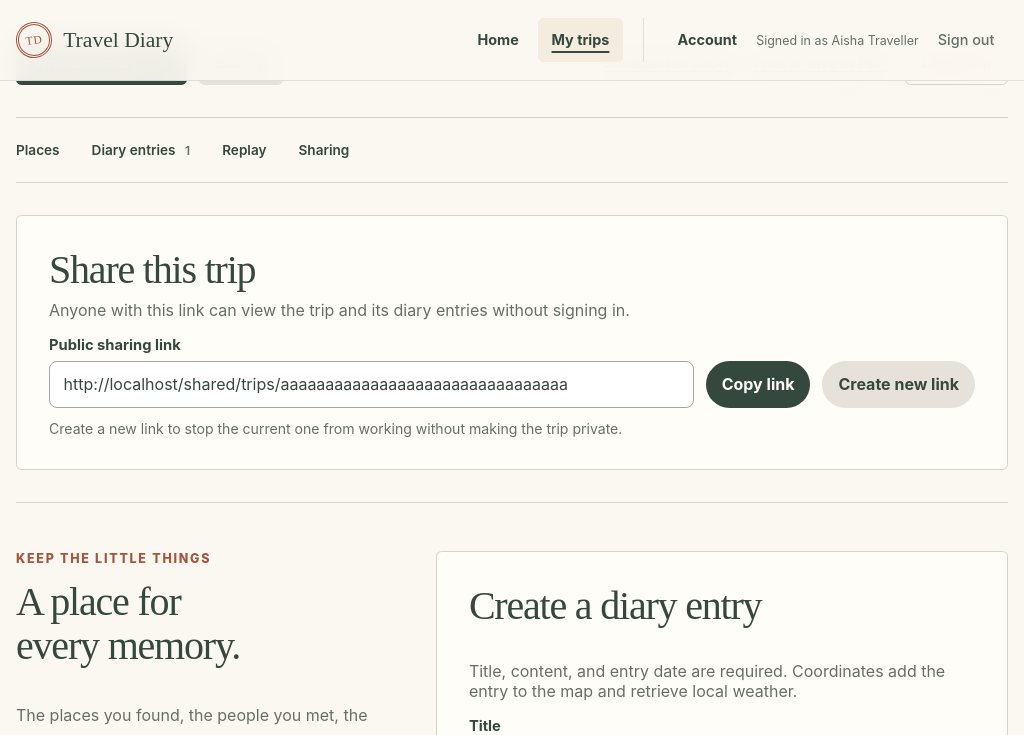
TripDetails owner actions › shows the sharing link only for a public trip and can replace it
(page scrolled)
Click the button "Create new link": (899, 384) [822,361,975,408]
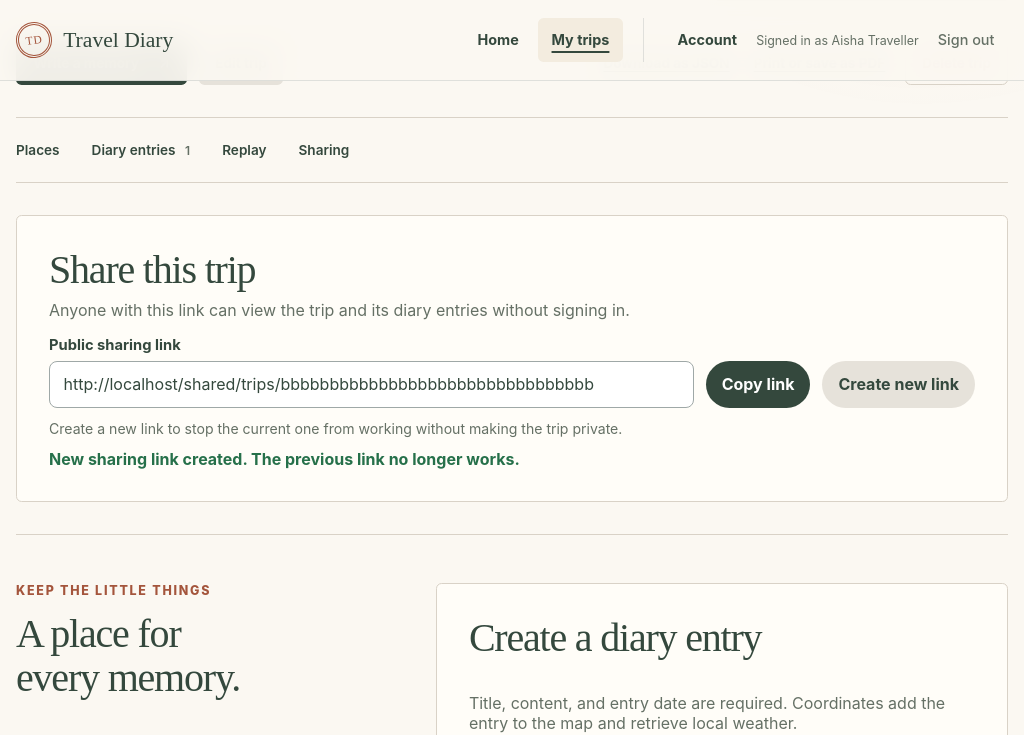
Result: the text "New sharing link created. The previous link no longer works." is shown at [49,449,520,469]
